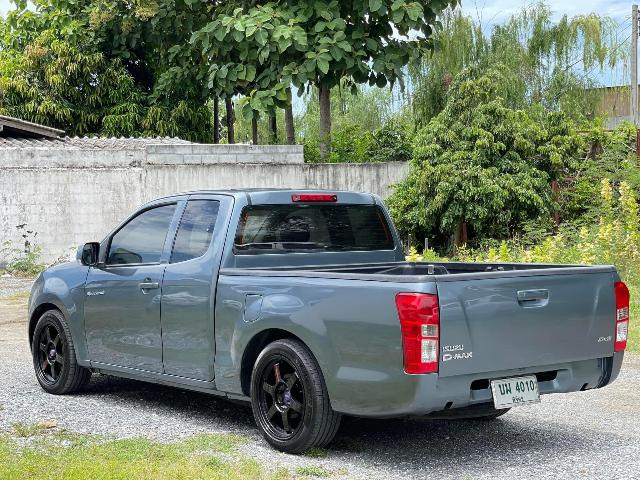pickup-truck: (16, 165, 636, 462)
